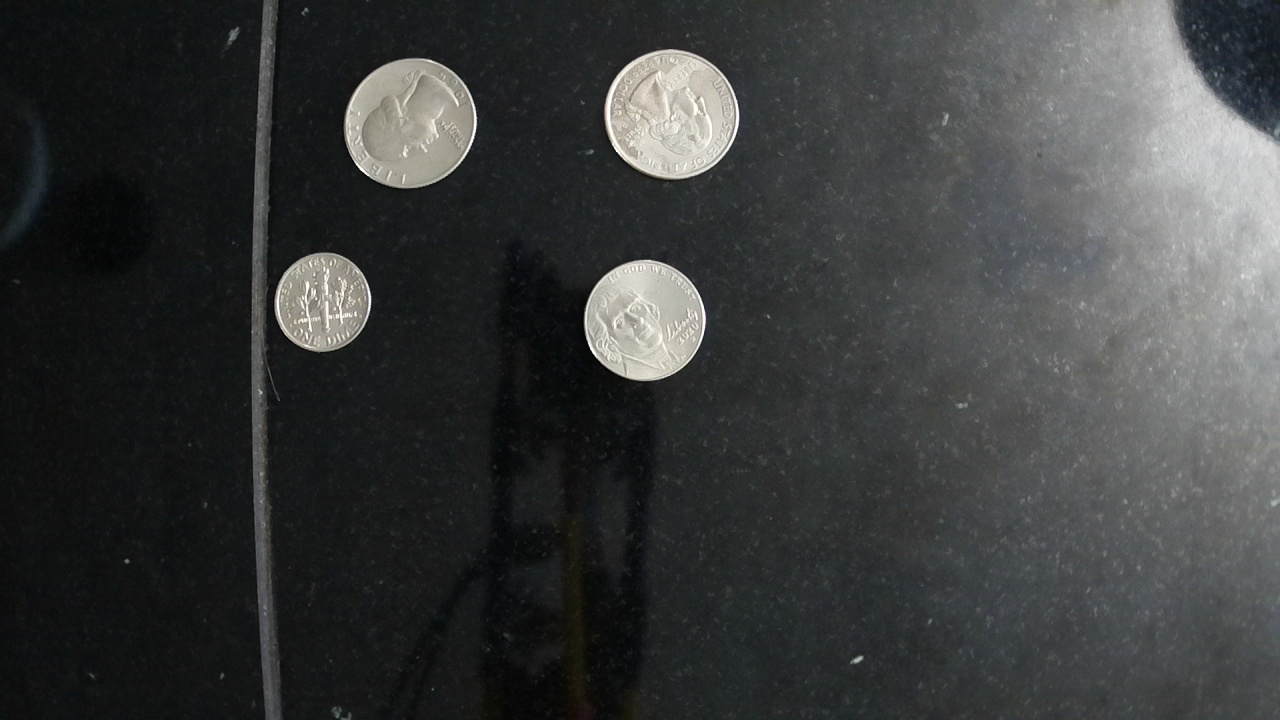dime: (272, 250, 374, 354)
nickel: (578, 255, 710, 387)
quarter: (341, 50, 477, 194), (602, 44, 738, 184)
